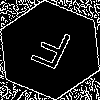F: (25, 25, 75, 79)
